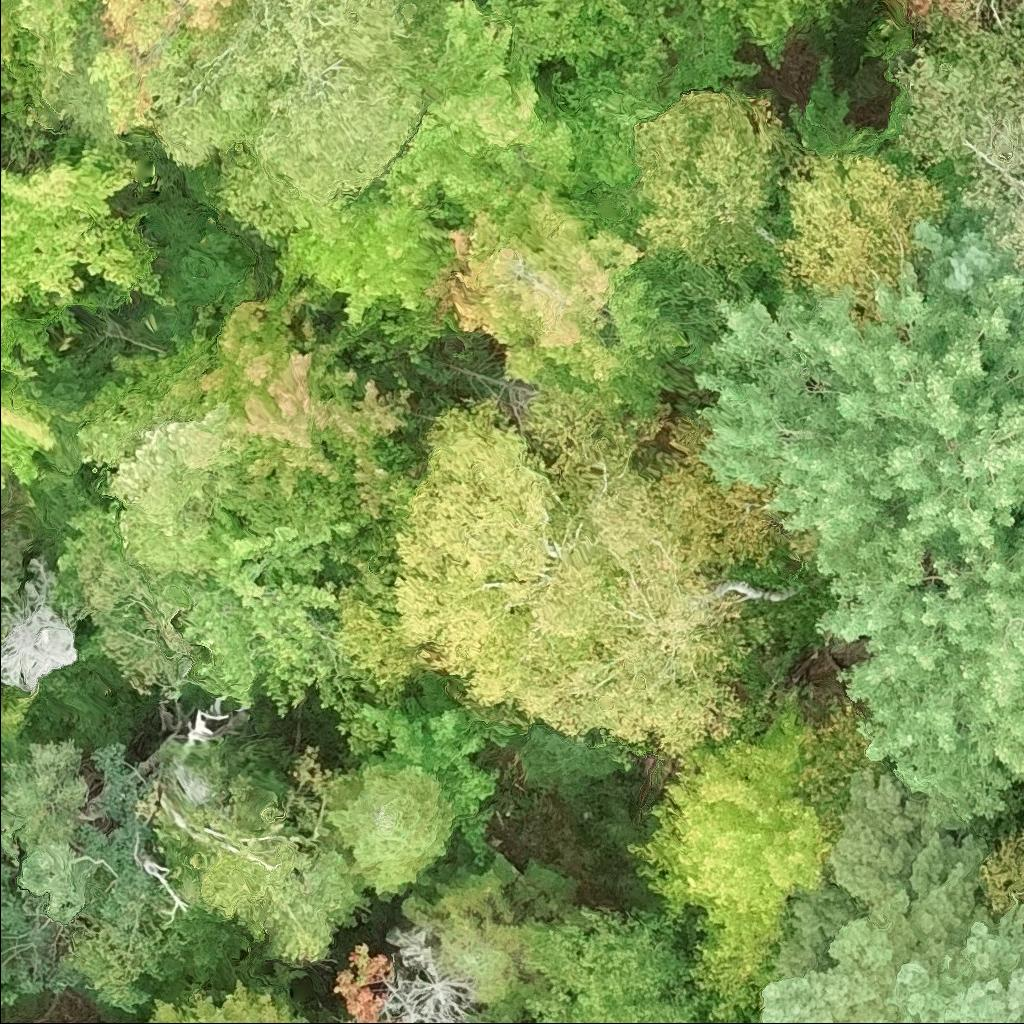crown: (701, 257, 1023, 829), (400, 387, 798, 748), (286, 0, 596, 326), (67, 307, 413, 585), (42, 0, 415, 250), (756, 767, 1023, 1023), (444, 188, 706, 420), (628, 694, 827, 976), (66, 512, 335, 704), (616, 95, 810, 288), (895, 39, 1023, 284), (0, 147, 176, 316), (523, 901, 756, 1023), (786, 159, 945, 318), (76, 844, 236, 1000), (339, 709, 496, 864), (191, 833, 357, 964), (403, 877, 545, 1023), (325, 754, 455, 897), (643, 0, 842, 86), (505, 0, 677, 89), (91, 0, 241, 88), (0, 315, 60, 507), (0, 558, 78, 698), (382, 925, 489, 1023), (0, 0, 109, 79), (334, 939, 401, 1023), (140, 989, 304, 1023), (973, 840, 1023, 911), (0, 695, 33, 747), (527, 996, 544, 1023)
